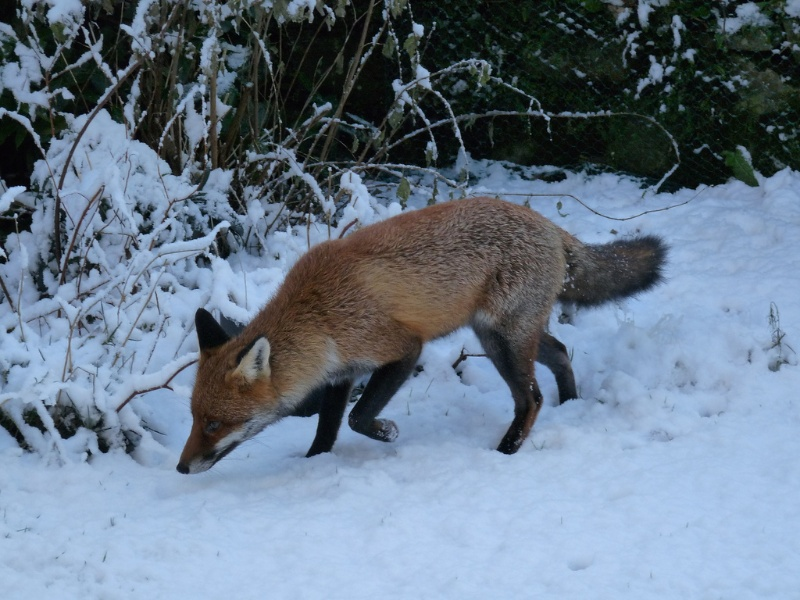fox: (174, 193, 683, 494)
